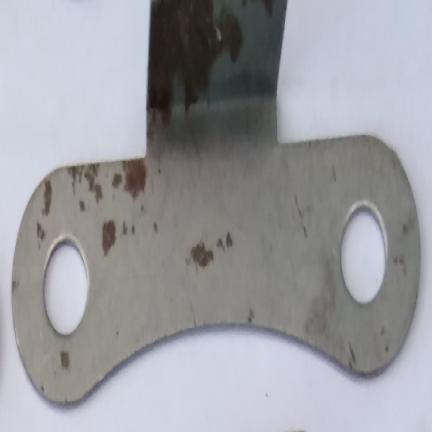karat: (146, 0, 245, 121), (60, 349, 70, 375)
